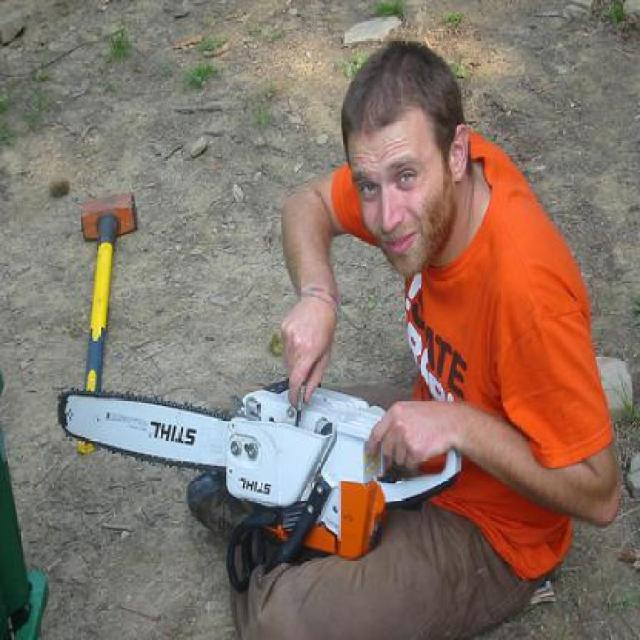Chainsaw: (49, 382, 463, 589)
